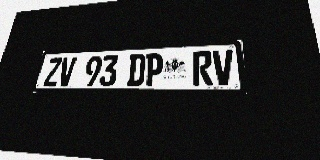3: (99, 55, 118, 86)
9: (83, 56, 103, 86)
D: (126, 54, 146, 86)
P: (144, 53, 164, 86)
R: (193, 51, 213, 86)
V: (212, 50, 235, 85), (57, 57, 77, 87)
Z: (43, 58, 63, 87)
